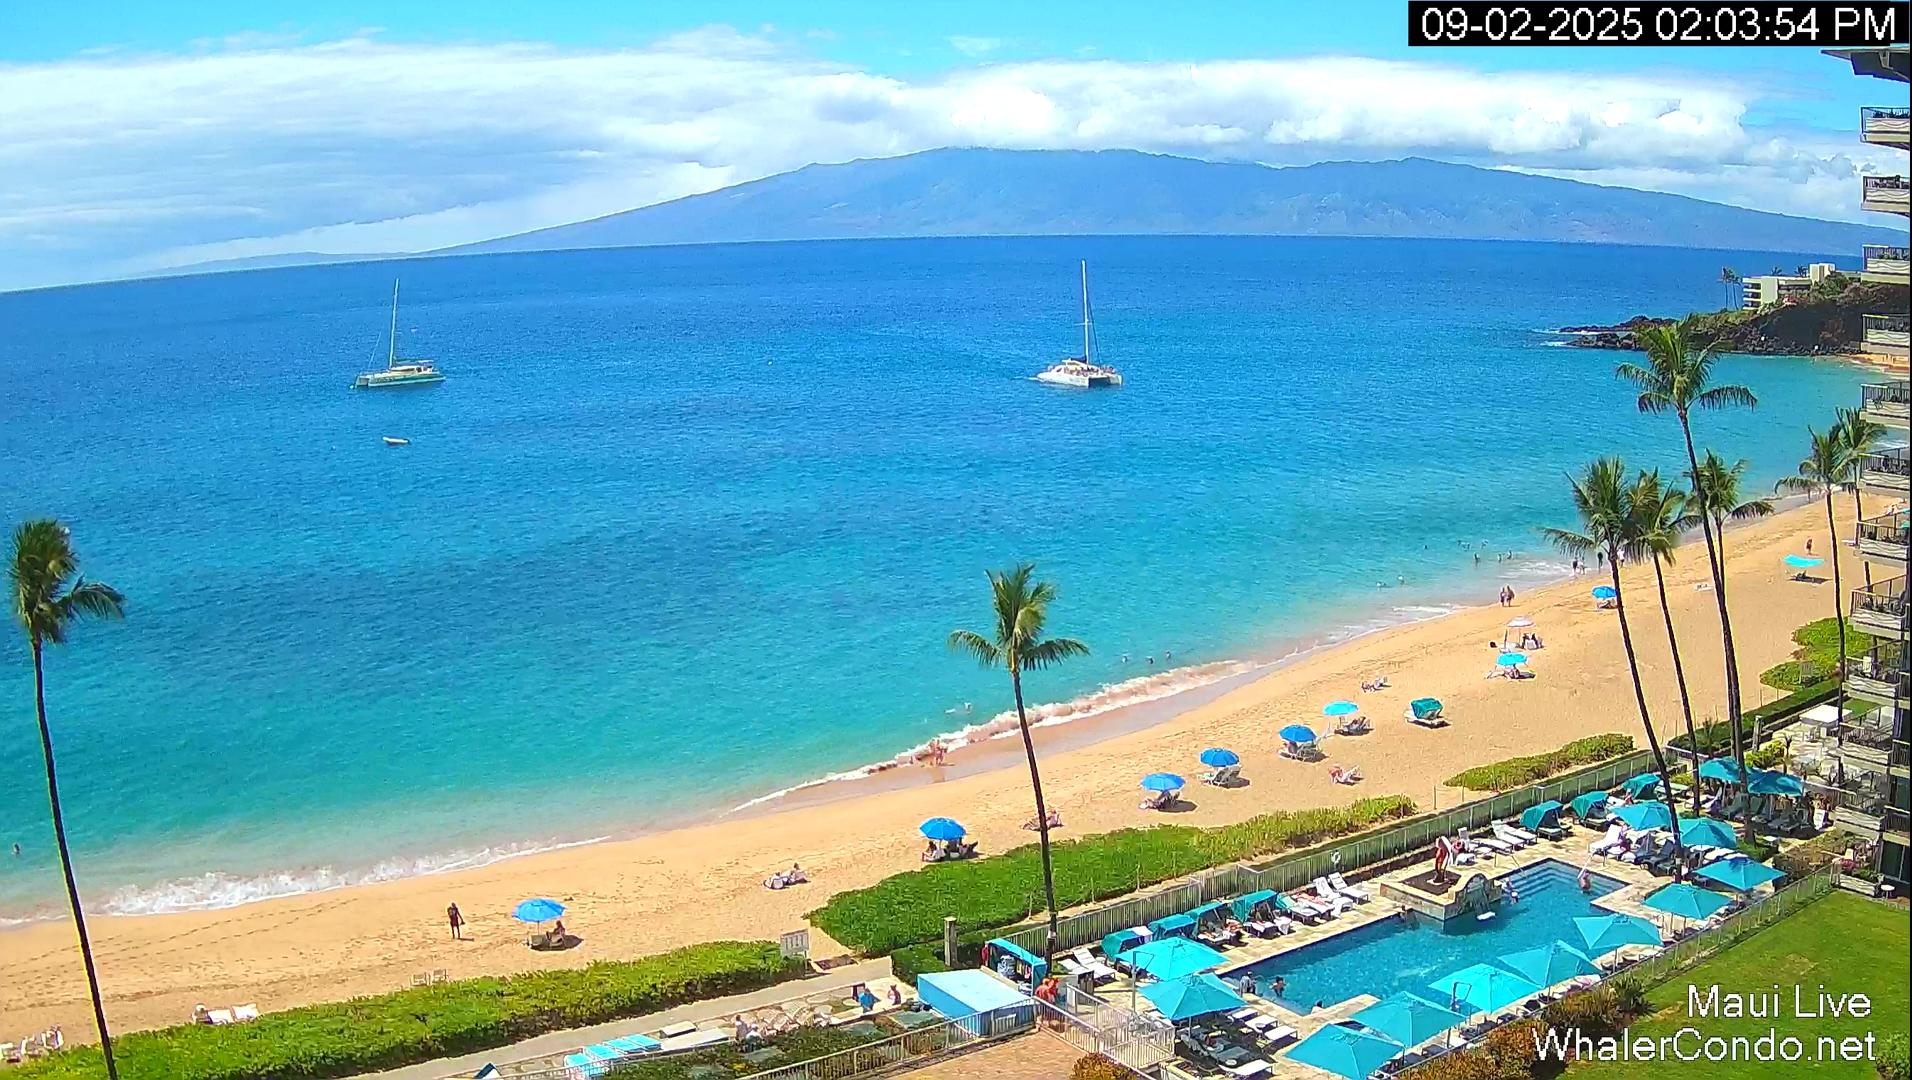boat: (1036, 259, 1123, 389), (352, 278, 446, 389), (382, 436, 411, 444)
person: (1452, 832, 1477, 868), (446, 902, 466, 940), (1297, 886, 1328, 910), (1034, 977, 1056, 1005), (858, 988, 882, 1012), (764, 869, 786, 893), (1578, 865, 1594, 898), (745, 1024, 763, 1052), (1240, 970, 1256, 997), (790, 862, 808, 884), (547, 920, 566, 940), (1200, 919, 1220, 938), (734, 1015, 748, 1041), (1270, 976, 1285, 998), (887, 984, 901, 1006), (1247, 909, 1264, 926), (1506, 585, 1516, 607), (1284, 739, 1297, 754), (1311, 997, 1323, 1013), (1499, 586, 1507, 607), (928, 840, 938, 856), (1805, 538, 1813, 557), (1597, 552, 1604, 573), (940, 742, 946, 765), (965, 700, 973, 717), (1374, 578, 1385, 590), (12, 842, 21, 856), (1121, 652, 1129, 666), (1398, 572, 1407, 584), (1572, 558, 1578, 574), (1165, 650, 1172, 663), (1511, 890, 1518, 903), (1508, 549, 1515, 561), (1457, 535, 1463, 548), (1148, 655, 1154, 667), (1474, 553, 1480, 564), (1530, 632, 1538, 640), (1522, 633, 1530, 640), (1497, 553, 1502, 563), (1424, 544, 1430, 551)
